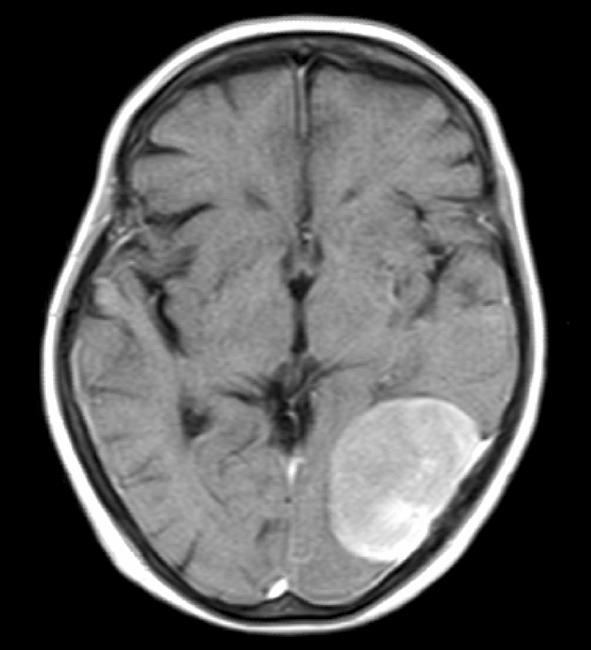Tumour-Meningioma: (319, 376, 507, 589)
